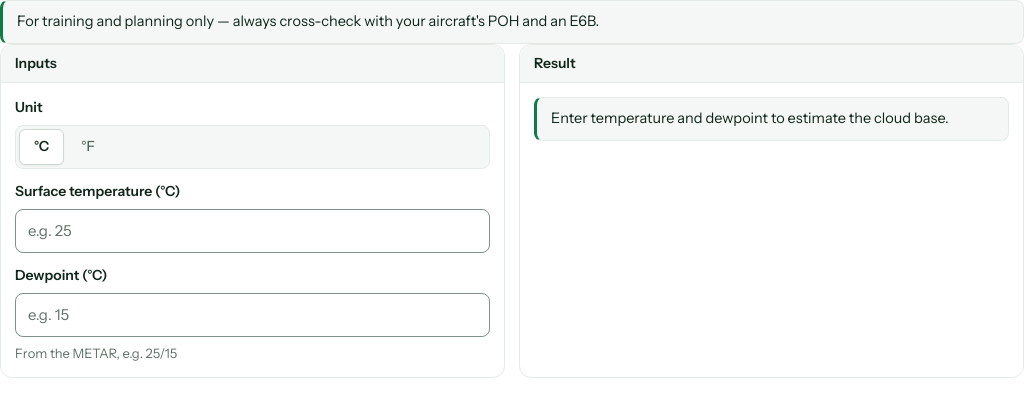
Scenario: CloudBaseCalculator › accepts °F: 77 °F / 59 °F → 4,000 ft AGL
Click the tab "°F" at point(88, 147), box top-left (66, 129), bottom-right (110, 165)
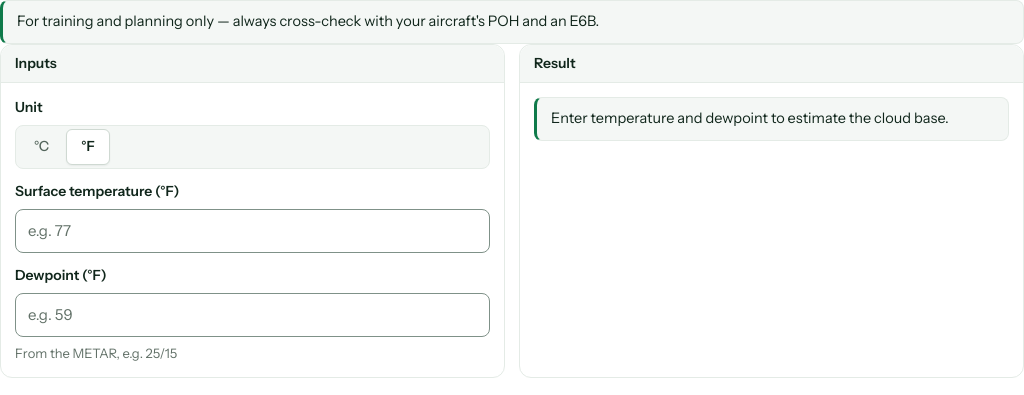
Type "77" into the number field with placeholder "e.g. 77" at point(252, 231), box top-left (15, 208), bottom-right (490, 253)
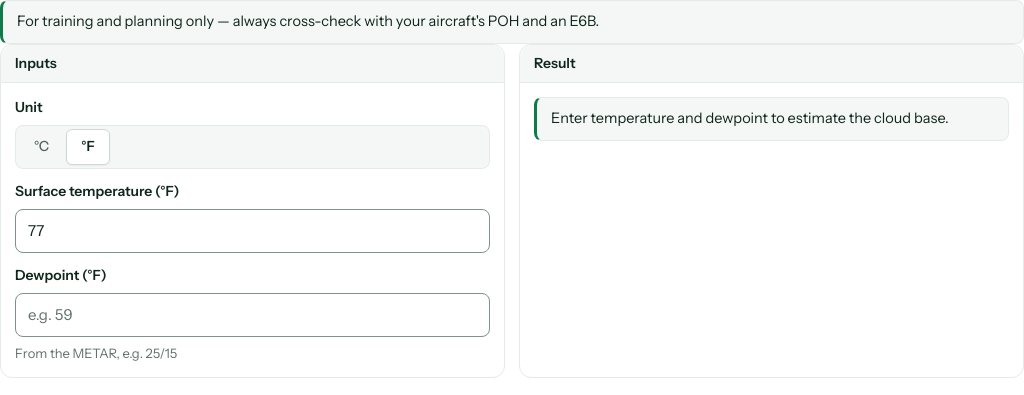
Type "59" into the number field with placeholder "e.g. 59" at point(252, 315), box top-left (15, 293), bottom-right (490, 337)
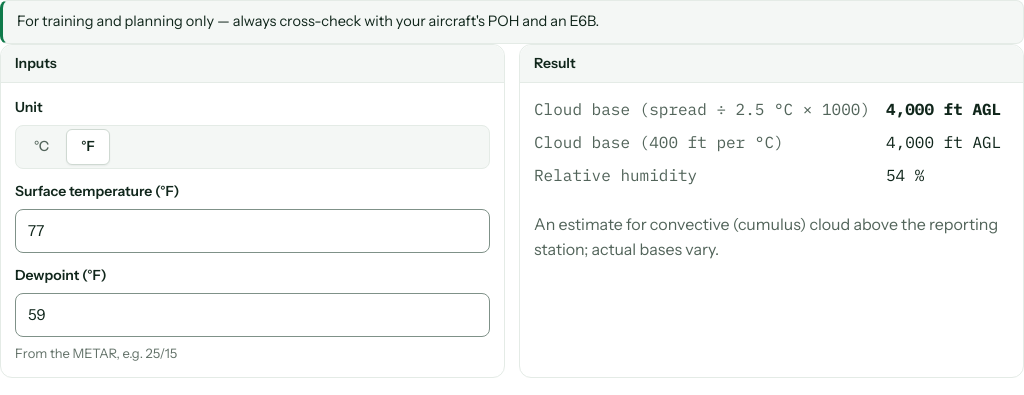
Result: the text "4,000 ft AGL" is shown 2 times at top-left (886, 97), bottom-right (1009, 122); top-left (886, 130), bottom-right (1009, 155)
